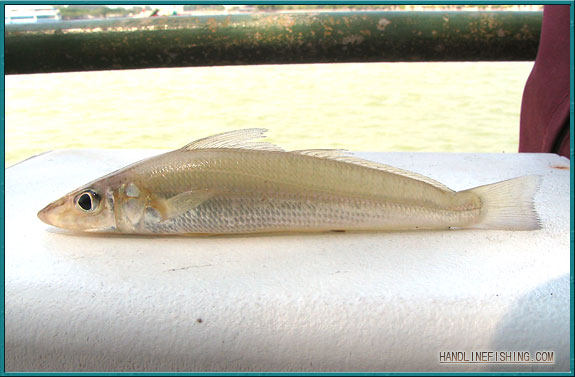kiss: (37, 129, 555, 242)
